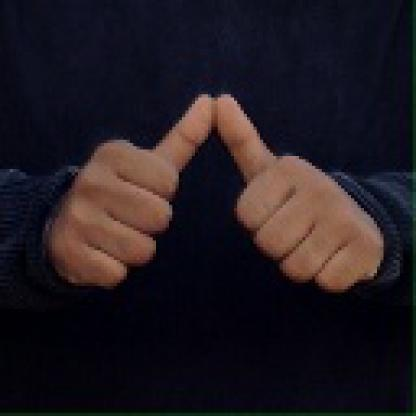A: (54, 89, 384, 297)
